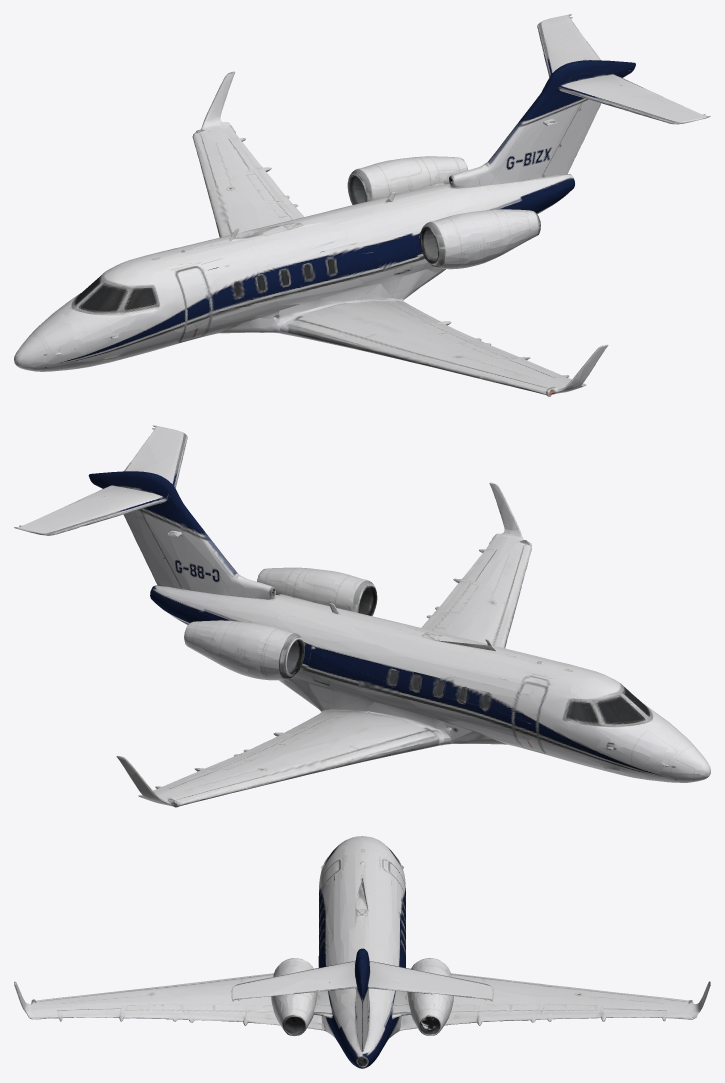
Rendered from prop_jet.glb.
3 renders of one model, top to bottom at view 1: azimuth 30°, elevation 25°; view 2: azimuth 150°, elevation 25°; view 3: azimuth 270°, elevation 25°, orthographic. The views are drawn at different scales.
Parts seen in each view (by area): view 1: Mesh_0; view 2: Mesh_0; view 3: Mesh_0.
Boxes of the visible parts, <box> form: Mesh_0: <box>14,14,710,396</box>; Mesh_0: <box>14,425,710,807</box>; Mesh_0: <box>14,836,710,1068</box>.
Size of the model in its own units: 1.84 by 0.5167 by 1.9.
Materials: 1 (1 with a texture image).
